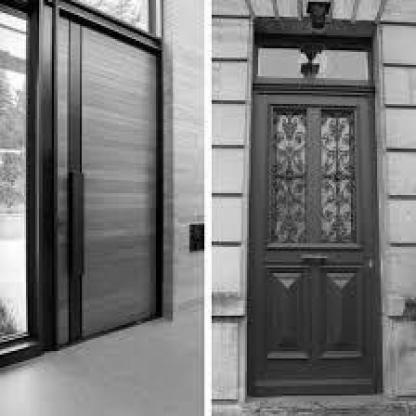door: (232, 4, 398, 407), (48, 2, 173, 364)
